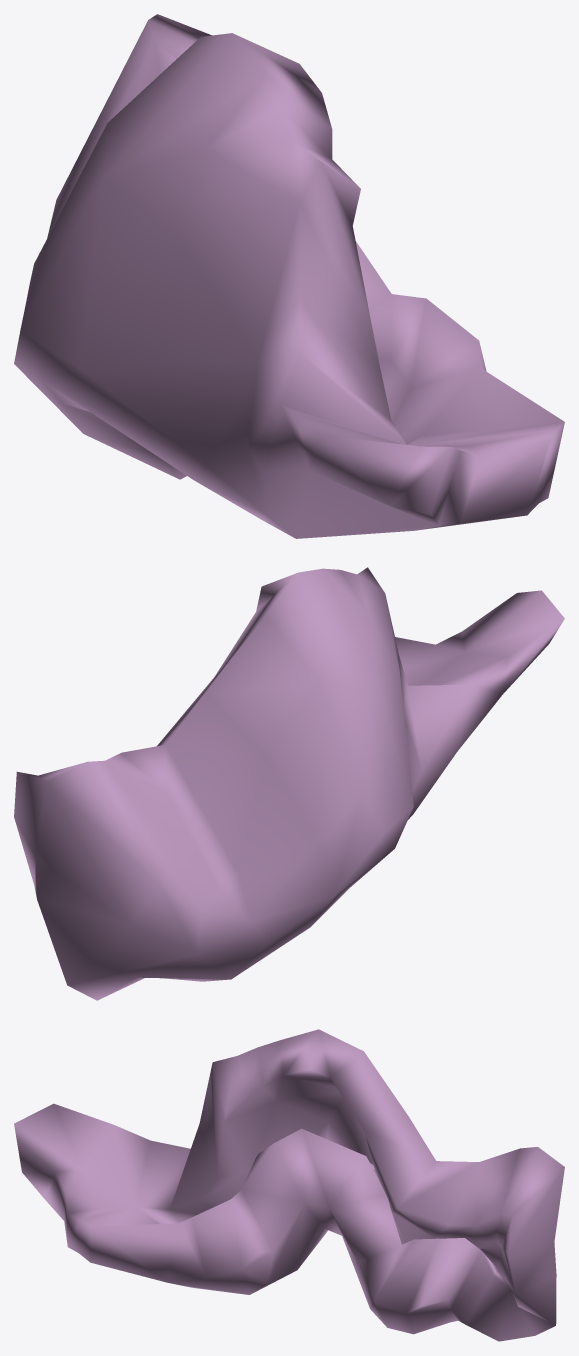
The picture shows the model from 3 angles, top to bottom: view 1: azimuth 30°, elevation 25°; view 2: azimuth 150°, elevation 25°; view 3: azimuth 270°, elevation 25°; orthographic projection. The views are drawn at different scales.
Parts seen in each view (by area): view 1: 左侧詹森中间沟; view 2: 左侧詹森中间沟; view 3: 左侧詹森中间沟.
Part boxes in pixels (x1=…): 左侧詹森中间沟: x1=14, y1=14, x2=564, y2=538; 左侧詹森中间沟: x1=14, y1=567, x2=564, y2=1000; 左侧詹森中间沟: x1=14, y1=1029, x2=564, y2=1341.
Bounding box in the file's own units: 0.0201 × 0.0243 × 0.0417.
